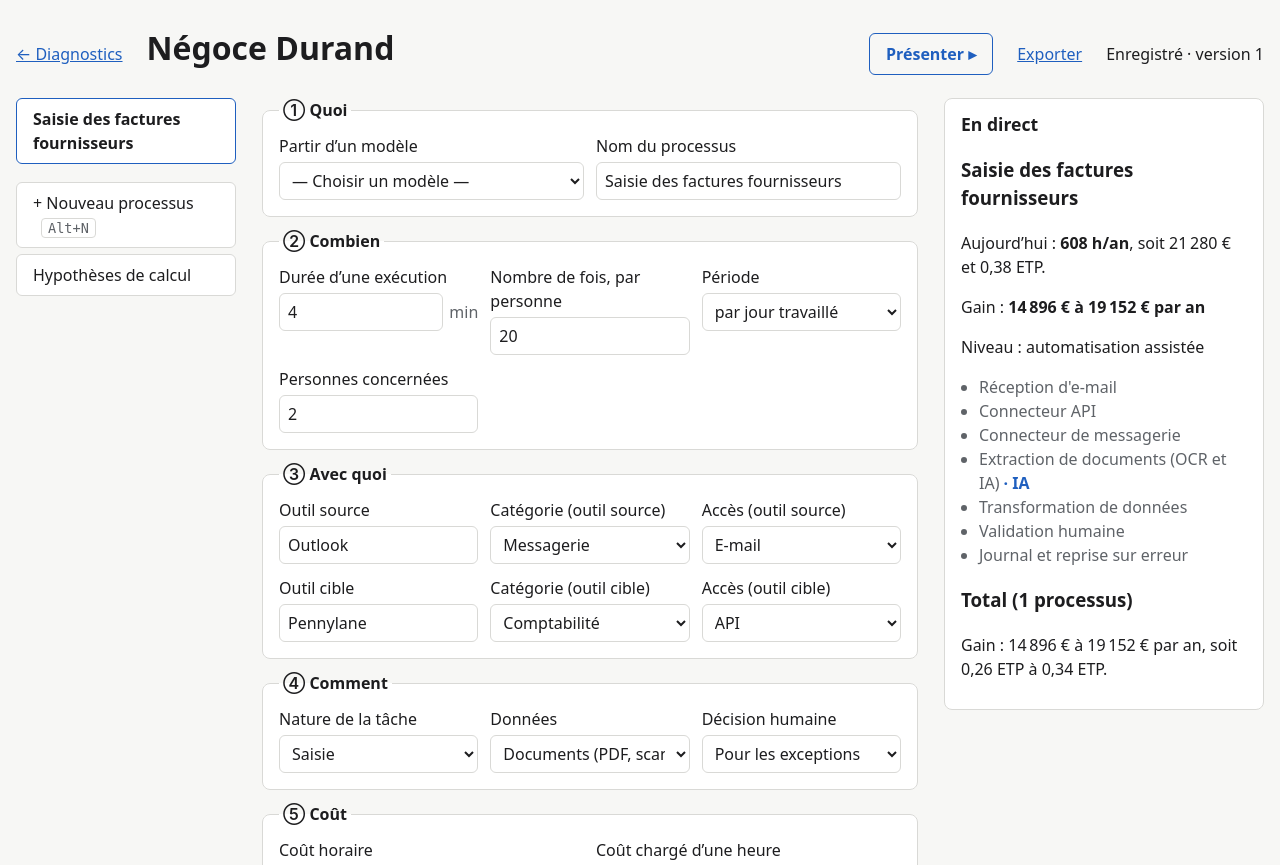
Entretien › crée un processus au clavier à partir d’un modèle, puis l’enregistre
This screenshot has width=1280, height=865.
Expected: the heading "Négoce Durand" is shown, [146,26,394,69]
Type keys "{Alt>}n{/Alt}"
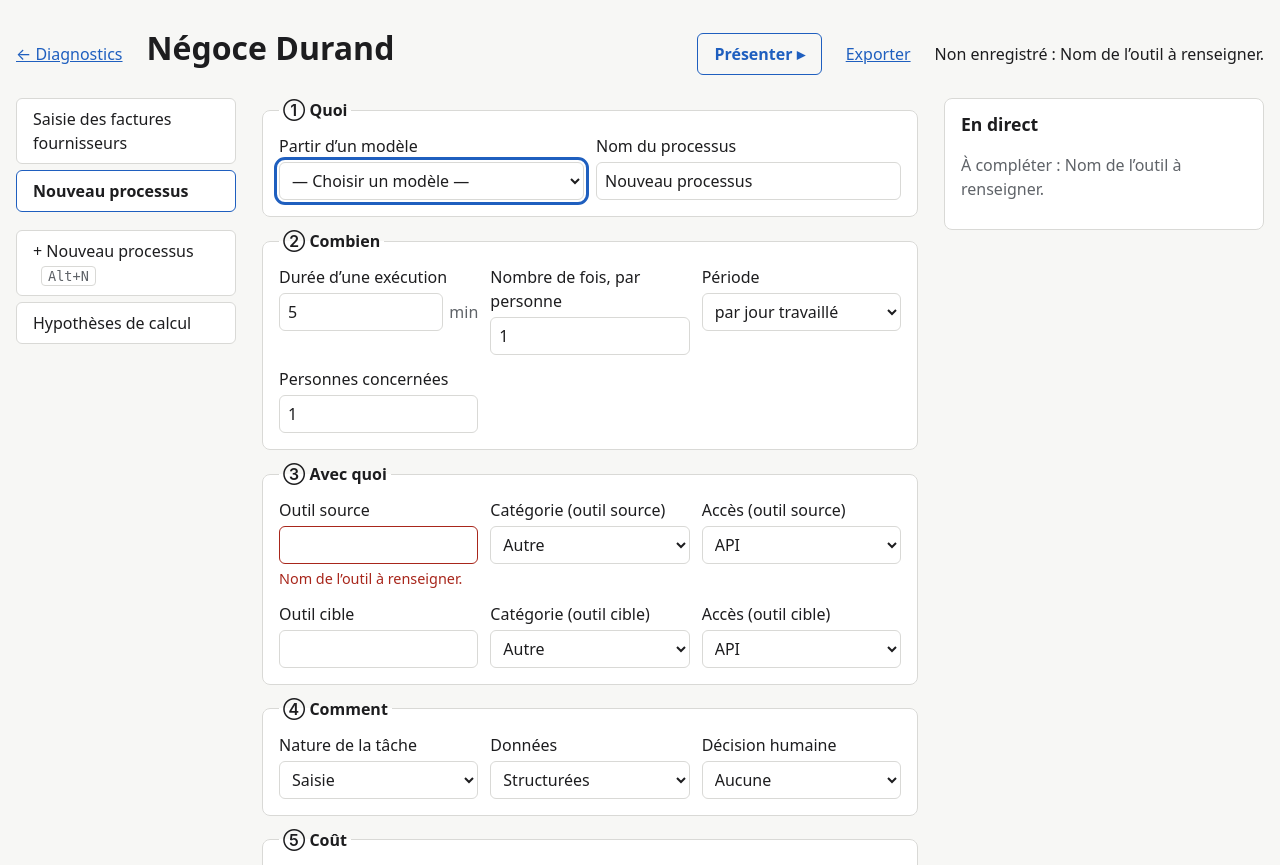
Now the text "À compléter : Nom de l’outil à renseigner." is shown, box [961,154,1181,200]
Select "Relances des impayés" in the dropdown labelled "Partir d’un modèle" at [432, 181], box [279,162,584,200]
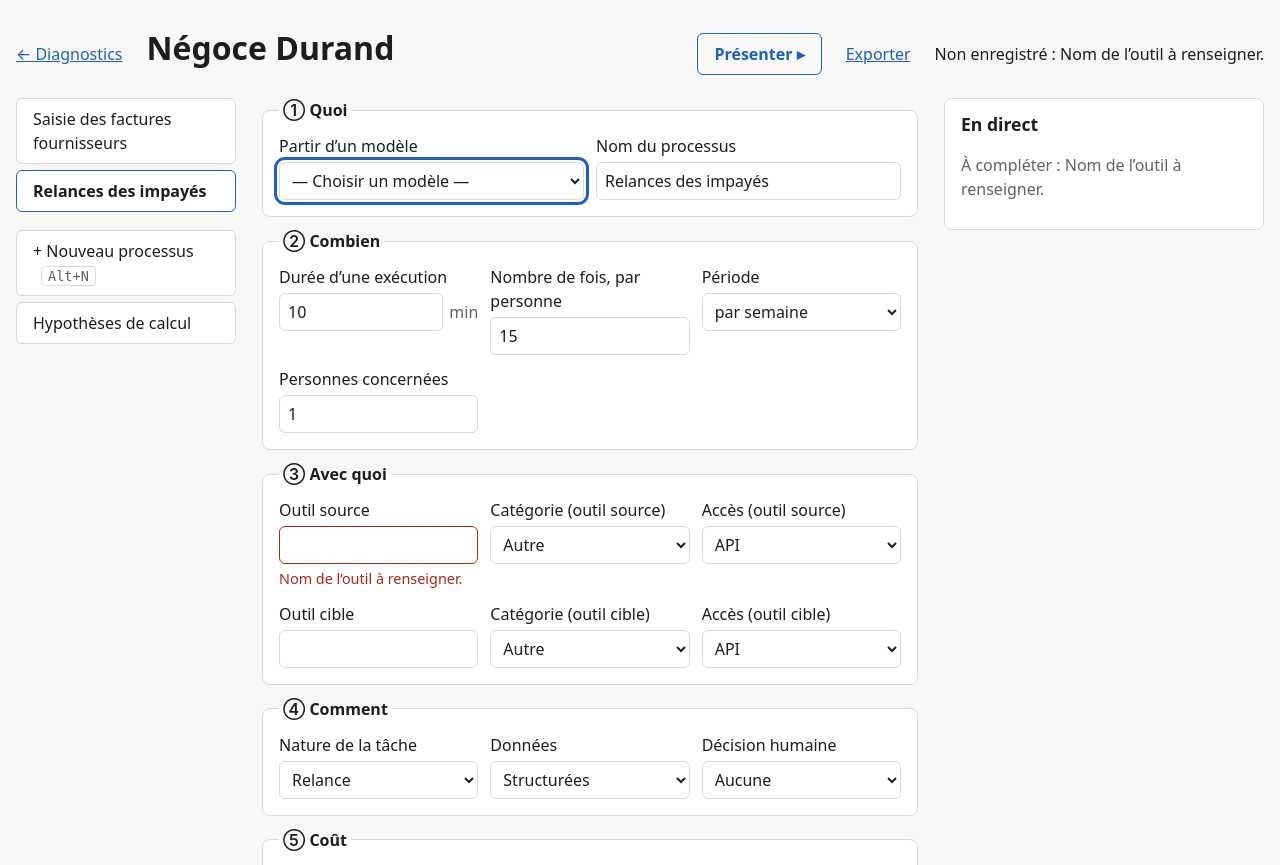
Now the field labelled "Nom du processus" holds "Relances des impayés", box [596,162,901,200]
Outils déjà cités : la catégorie et l'accès sont repris.
Type "Pennylane" into the field labelled "Outil source" at [379, 545], box [279,526,478,564]
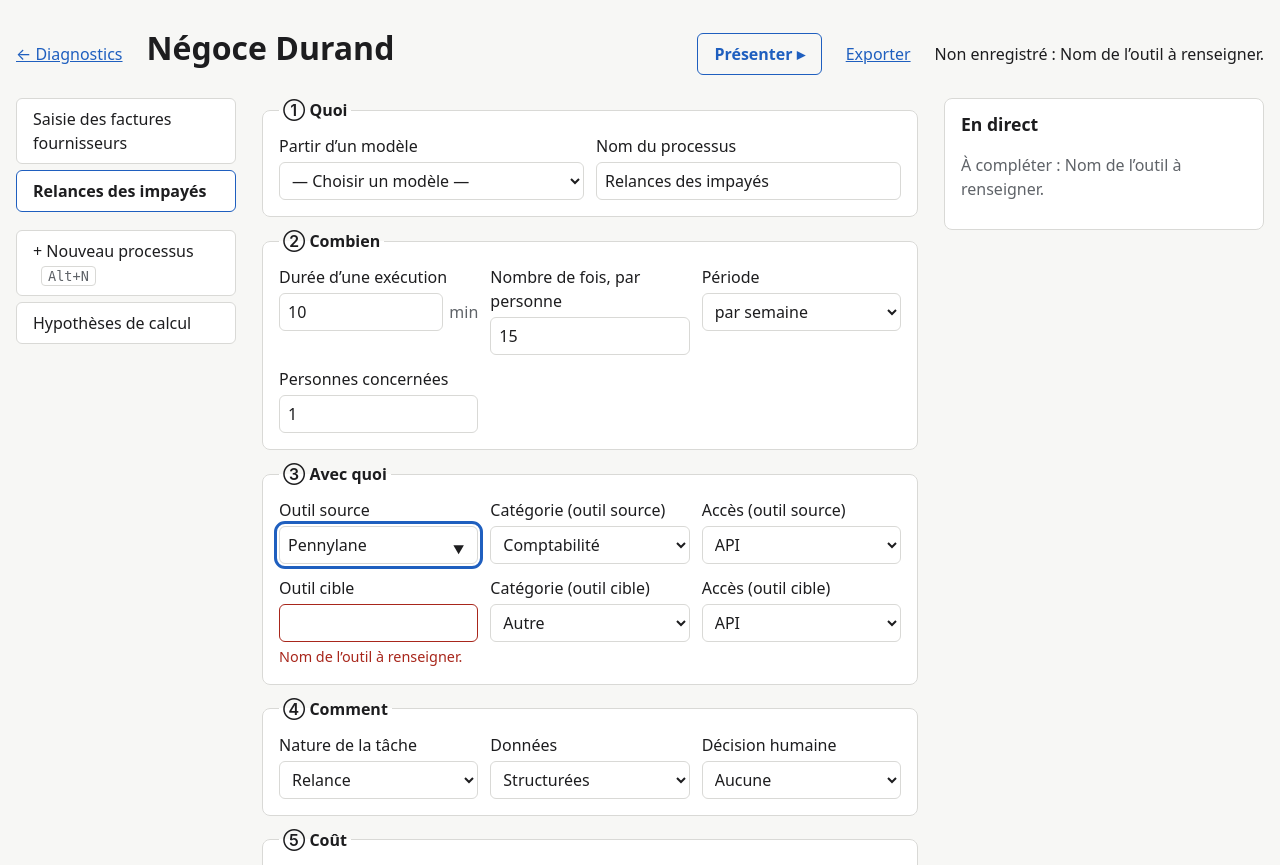
Type "Outlook" into the field labelled "Outil cible" at [379, 623], box [279,604,478,642]
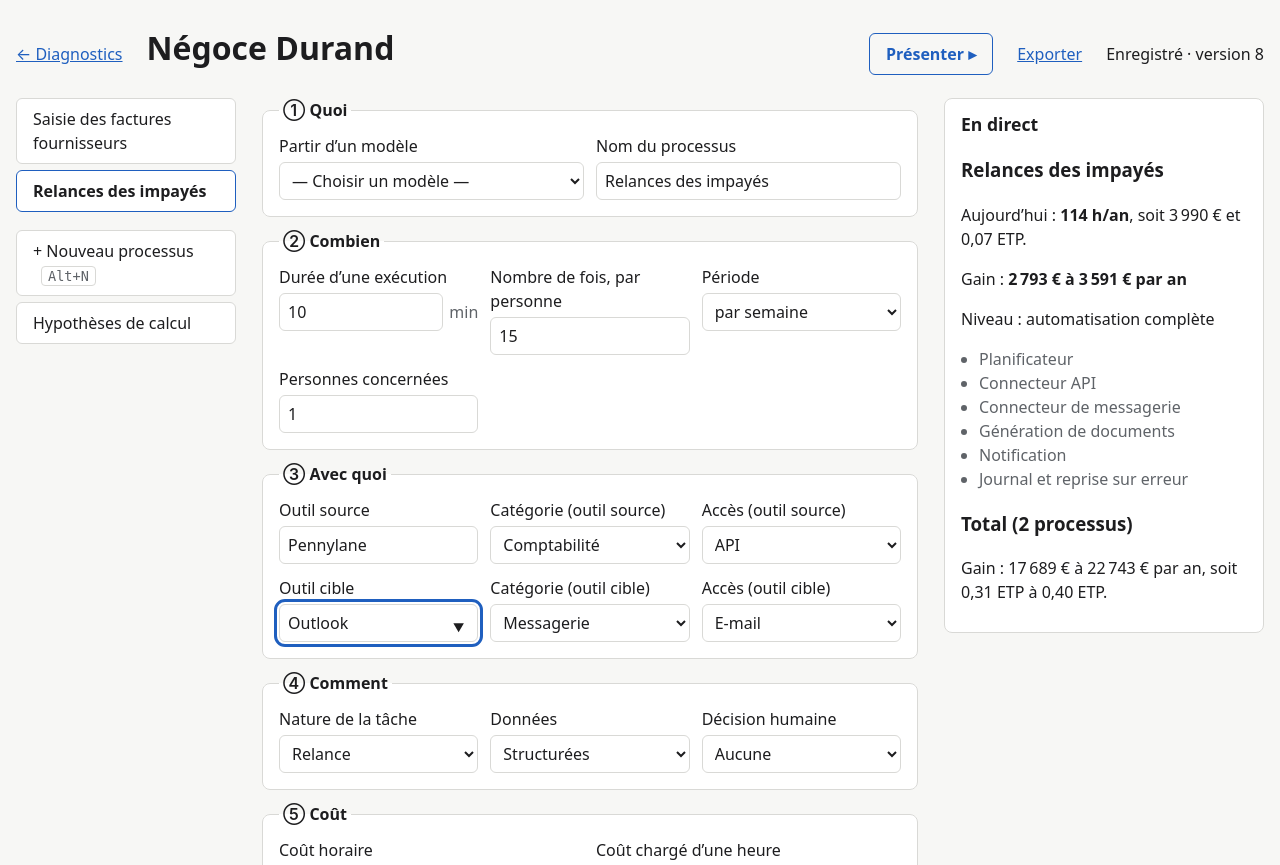
Now the dropdown labelled "Accès (outil cible)" shows "E-mail", box [702,604,901,642]
Now the element "En direct" shows "114 h/an", box [944,98,1264,633]
